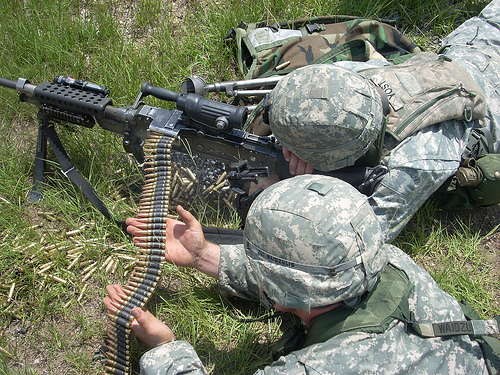rifle: (12, 73, 247, 192)
rifle in hand: (18, 59, 226, 359)
